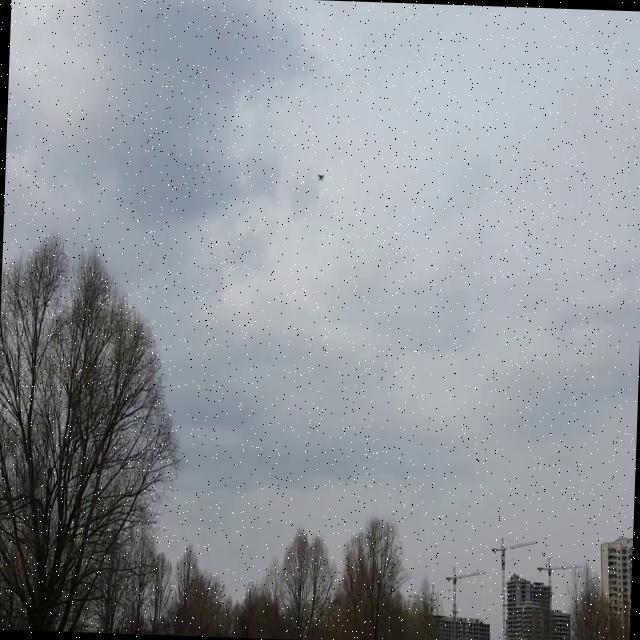Drons: (313, 172, 326, 184)
